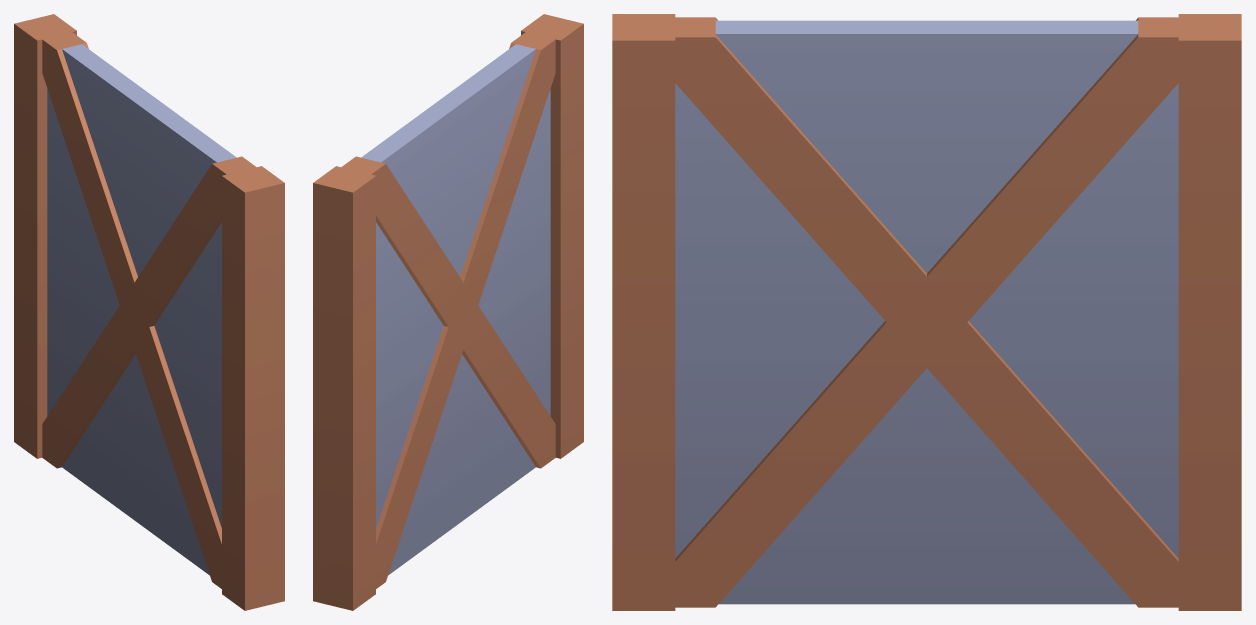
File: kenney-fantasy-town-wall-detail-cross.glb
3 renders of one model, left to right at view 1: azimuth 30°, elevation 25°; view 2: azimuth 150°, elevation 25°; view 3: azimuth 270°, elevation 25°, orthographic. The views are drawn at different scales.
Parts seen in each view (by area): view 1: wall-detail-cross; view 2: wall-detail-cross; view 3: wall-detail-cross.
Boxes of the visible parts, bbox=[...] form: wall-detail-cross: bbox=[14, 14, 284, 610]; wall-detail-cross: bbox=[313, 14, 583, 610]; wall-detail-cross: bbox=[612, 14, 1241, 610].
Bounding box in the file's own units: 0.1 × 1 × 1.
1 material, 1 textured.
